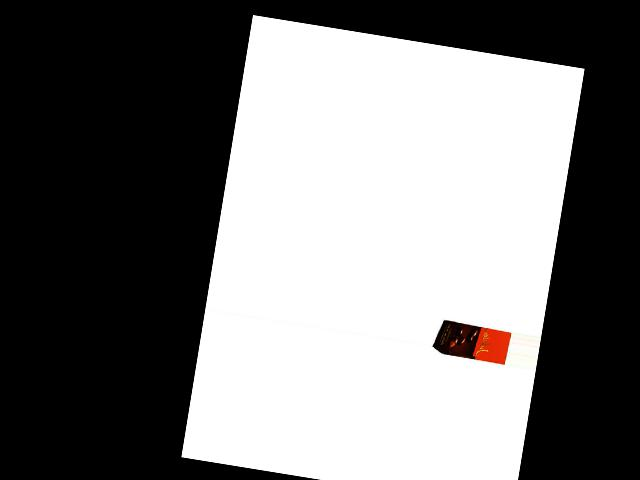chocolate: (432, 314, 511, 366)
